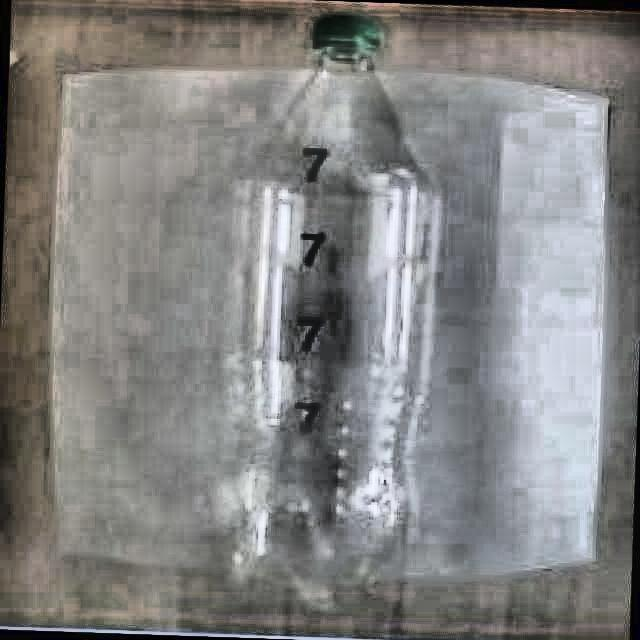plastic bottle: (221, 12, 432, 621)
